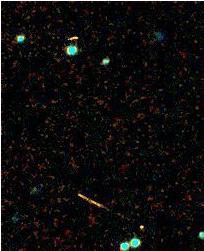star: (128, 213, 158, 243)
